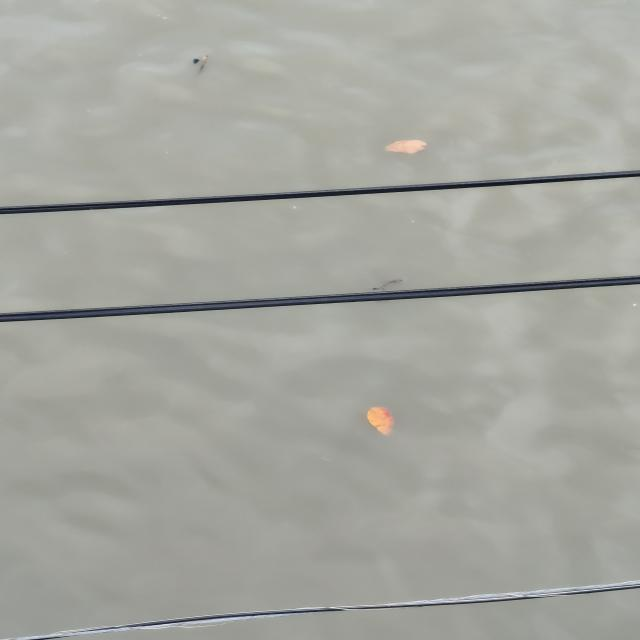Organic Debris: (188, 38, 222, 94), (381, 130, 439, 158), (357, 402, 398, 440)
